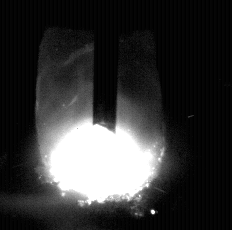arame: (93, 0, 118, 133)
poca: (36, 0, 166, 230)
